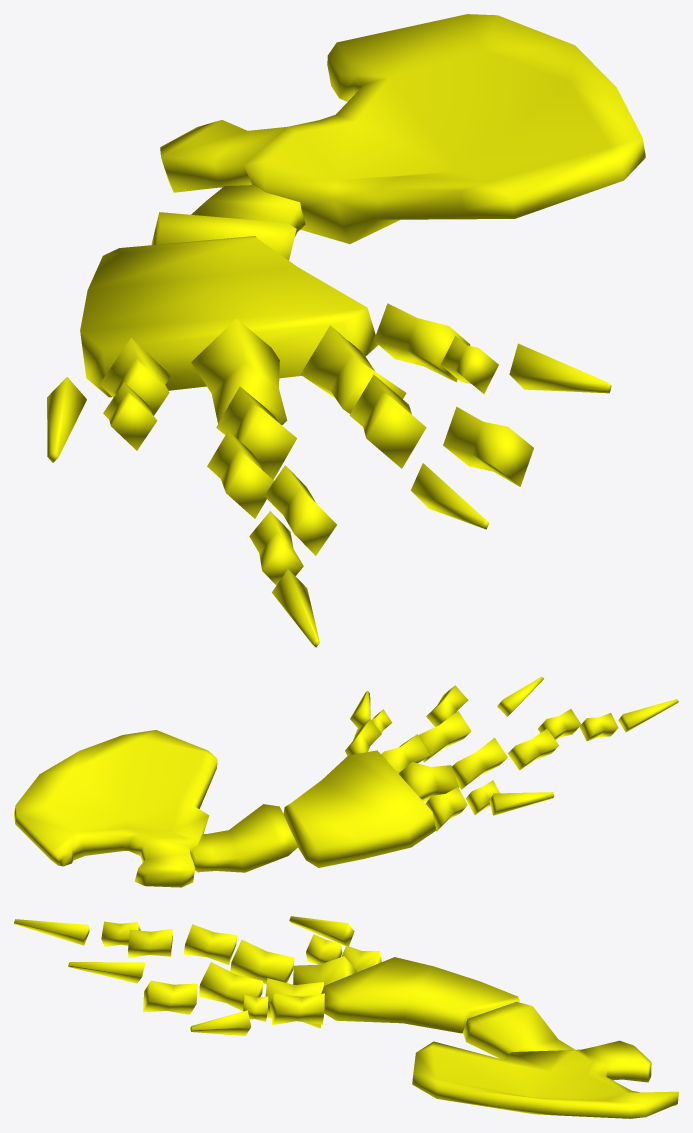
File: bone_whale_arm00.glb
3 renders of one model, top to bottom at view 1: azimuth 30°, elevation 25°; view 2: azimuth 150°, elevation 25°; view 3: azimuth 270°, elevation 25°, orthographic. The views are drawn at different scales.
Visible parts, largest first — view 1: bone_whale_arm00; view 2: bone_whale_arm00; view 3: bone_whale_arm00.
Part boxes in pixels (bbox=[...]): bone_whale_arm00: bbox=[47, 14, 645, 647]; bone_whale_arm00: bbox=[14, 676, 678, 887]; bone_whale_arm00: bbox=[14, 916, 678, 1118].
Bounding box in the file's own units: 11.77 × 1.69 × 16.03.
Materials: 1 (1 with a texture image).
